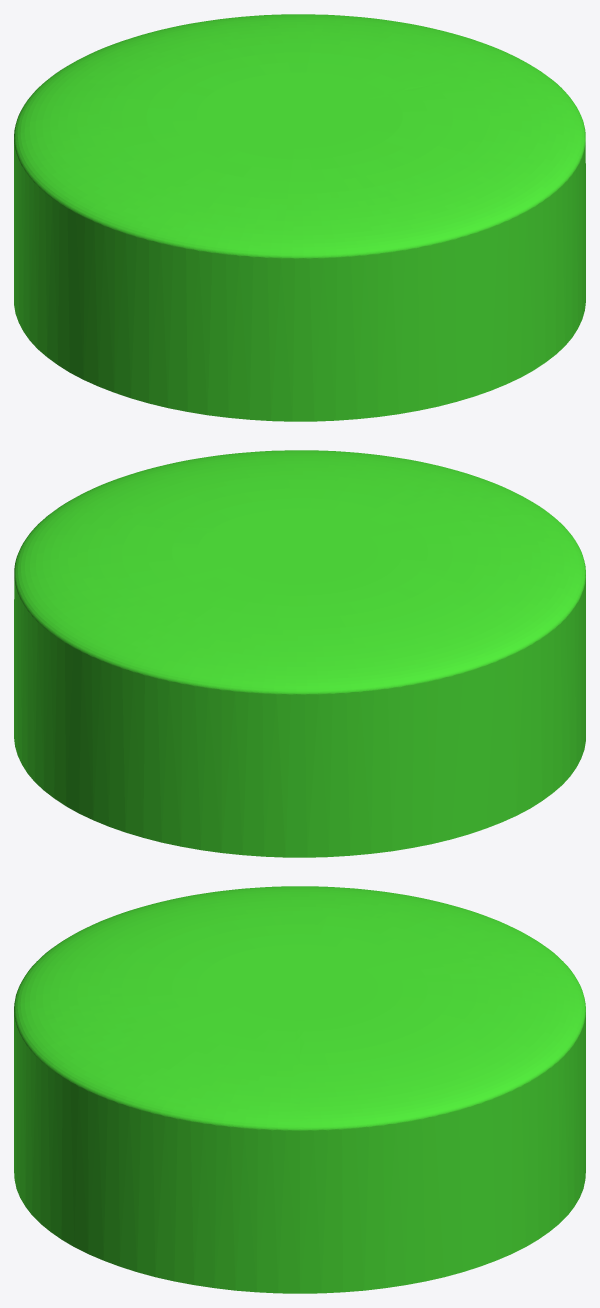
The model's file is bouchon_produit_02.glb.
The picture shows the model from 3 angles, top to bottom: view 1: azimuth 30°, elevation 25°; view 2: azimuth 150°, elevation 25°; view 3: azimuth 270°, elevation 25°; orthographic projection.
Parts seen in each view (by area): view 1: bouteille prototype V3 bouchon; view 2: bouteille prototype V3 bouchon; view 3: bouteille prototype V3 bouchon.
Boxes of the visible parts, box(x1,y1,x2,y2) form: bouteille prototype V3 bouchon: box(14, 14, 585, 421); bouteille prototype V3 bouchon: box(14, 450, 585, 857); bouteille prototype V3 bouchon: box(14, 886, 585, 1293).
Size of the model in its own units: 69.58 by 24.85 by 69.58.
